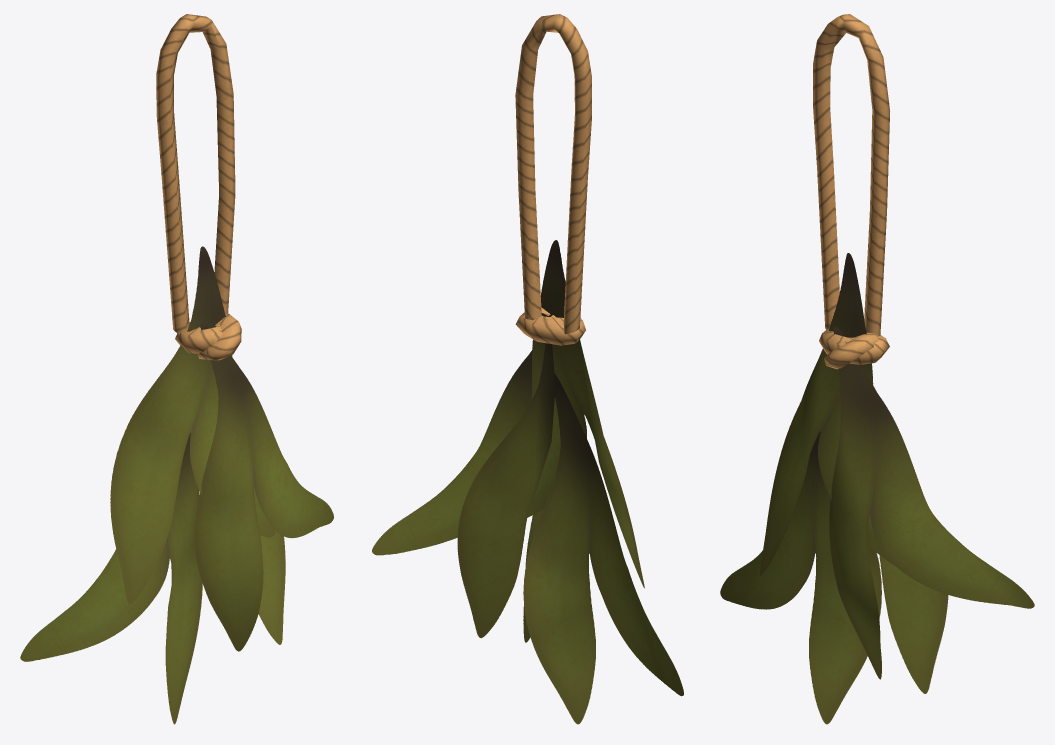
File: SM_Potion_Props_Herb_Broom_Wall_04.fbx
3 views of the same model, side by side, from view 1: azimuth 30°, elevation 25°; view 2: azimuth 150°, elevation 25°; view 3: azimuth 330°, elevation 25° (orthographic).
Parts seen in each view (by area): view 1: SM_Potion_Props_Herb_Broom_Wall_04_LOD0; view 2: SM_Potion_Props_Herb_Broom_Wall_04_LOD0; view 3: SM_Potion_Props_Herb_Broom_Wall_04_LOD0.
Boxes of the visible parts, bbox=[...] form: SM_Potion_Props_Herb_Broom_Wall_04_LOD0: bbox=[20, 14, 333, 724]; SM_Potion_Props_Herb_Broom_Wall_04_LOD0: bbox=[372, 14, 683, 724]; SM_Potion_Props_Herb_Broom_Wall_04_LOD0: bbox=[720, 14, 1034, 724].
Size of what is drawn, in the model's own units: 26.88 by 56.59 by 7.37.
